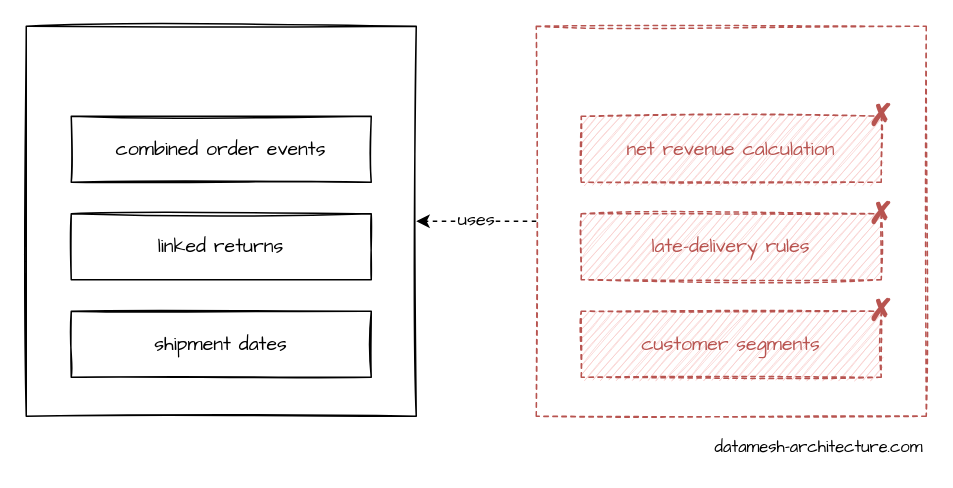
The diagram is 953 pixels wide and 488 high, and some of its shapes have lost their labels. The box of each missing label's shape, as (x1, y1, x2, y2) in pixels:
consumer-specific stays out, built by consumers: (535, 25, 926, 416)
order_lifecycle general-purpose, shared: (25, 25, 416, 416)
